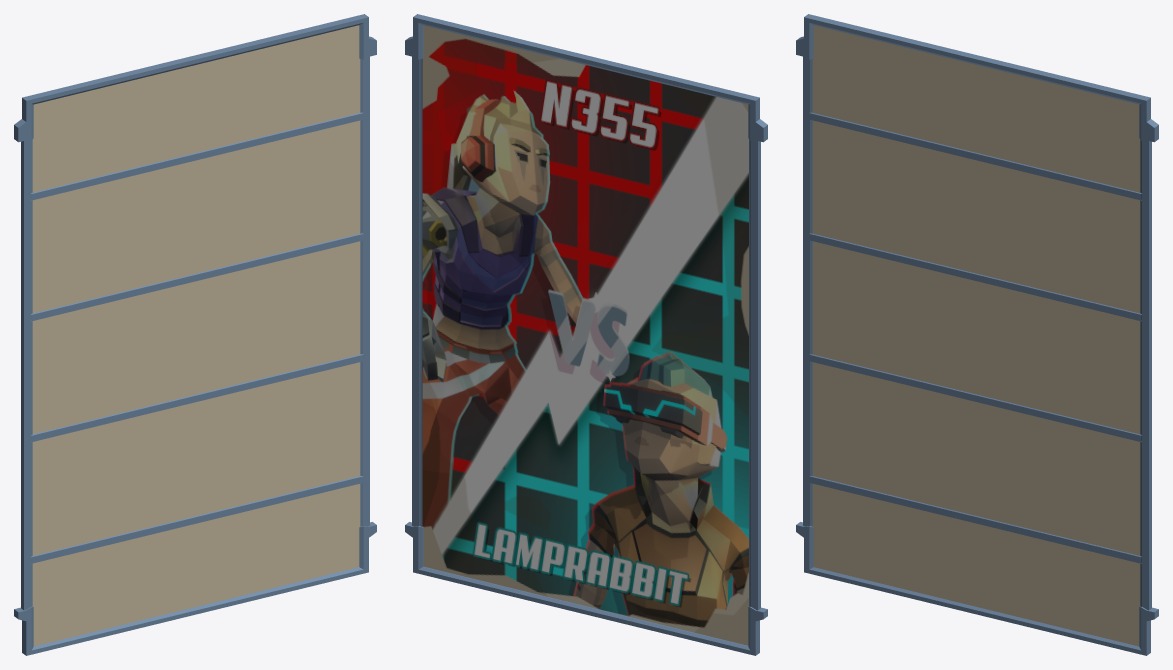
Rendered from SM_Sign_Billboard_Large_01.fbx.
The picture shows the model from 3 angles, left to right: view 1: azimuth 30°, elevation 25°; view 2: azimuth 150°, elevation 25°; view 3: azimuth 330°, elevation 25°; orthographic projection.
Visible parts, largest first — view 1: SM_Sign_Billboard_Large_01; view 2: SM_Sign_Billboard_Large_01; view 3: SM_Sign_Billboard_Large_01.
Boxes of the visible parts, x1=… form: SM_Sign_Billboard_Large_01: x1=14, y1=14, x2=376, y2=655; SM_Sign_Billboard_Large_01: x1=405, y1=14, x2=767, y2=655; SM_Sign_Billboard_Large_01: x1=796, y1=14, x2=1158, y2=655.
Size of the model in its own units: 32809 by 48548 by 704.
